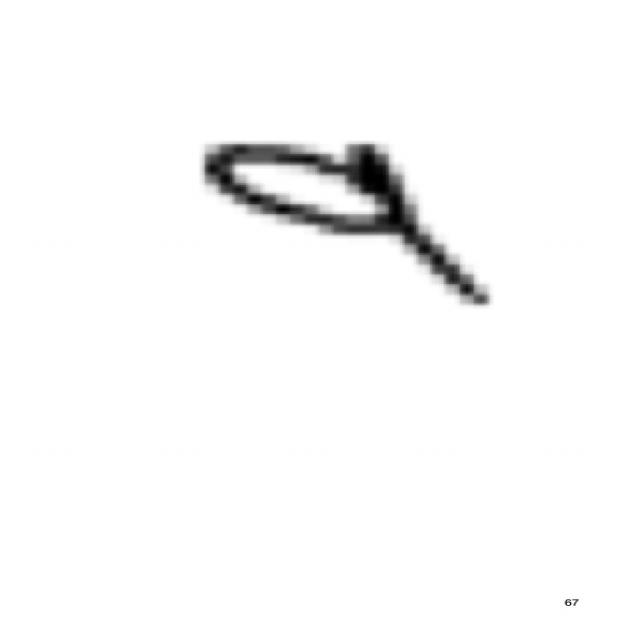9 -nine-: (183, 120, 501, 322)
